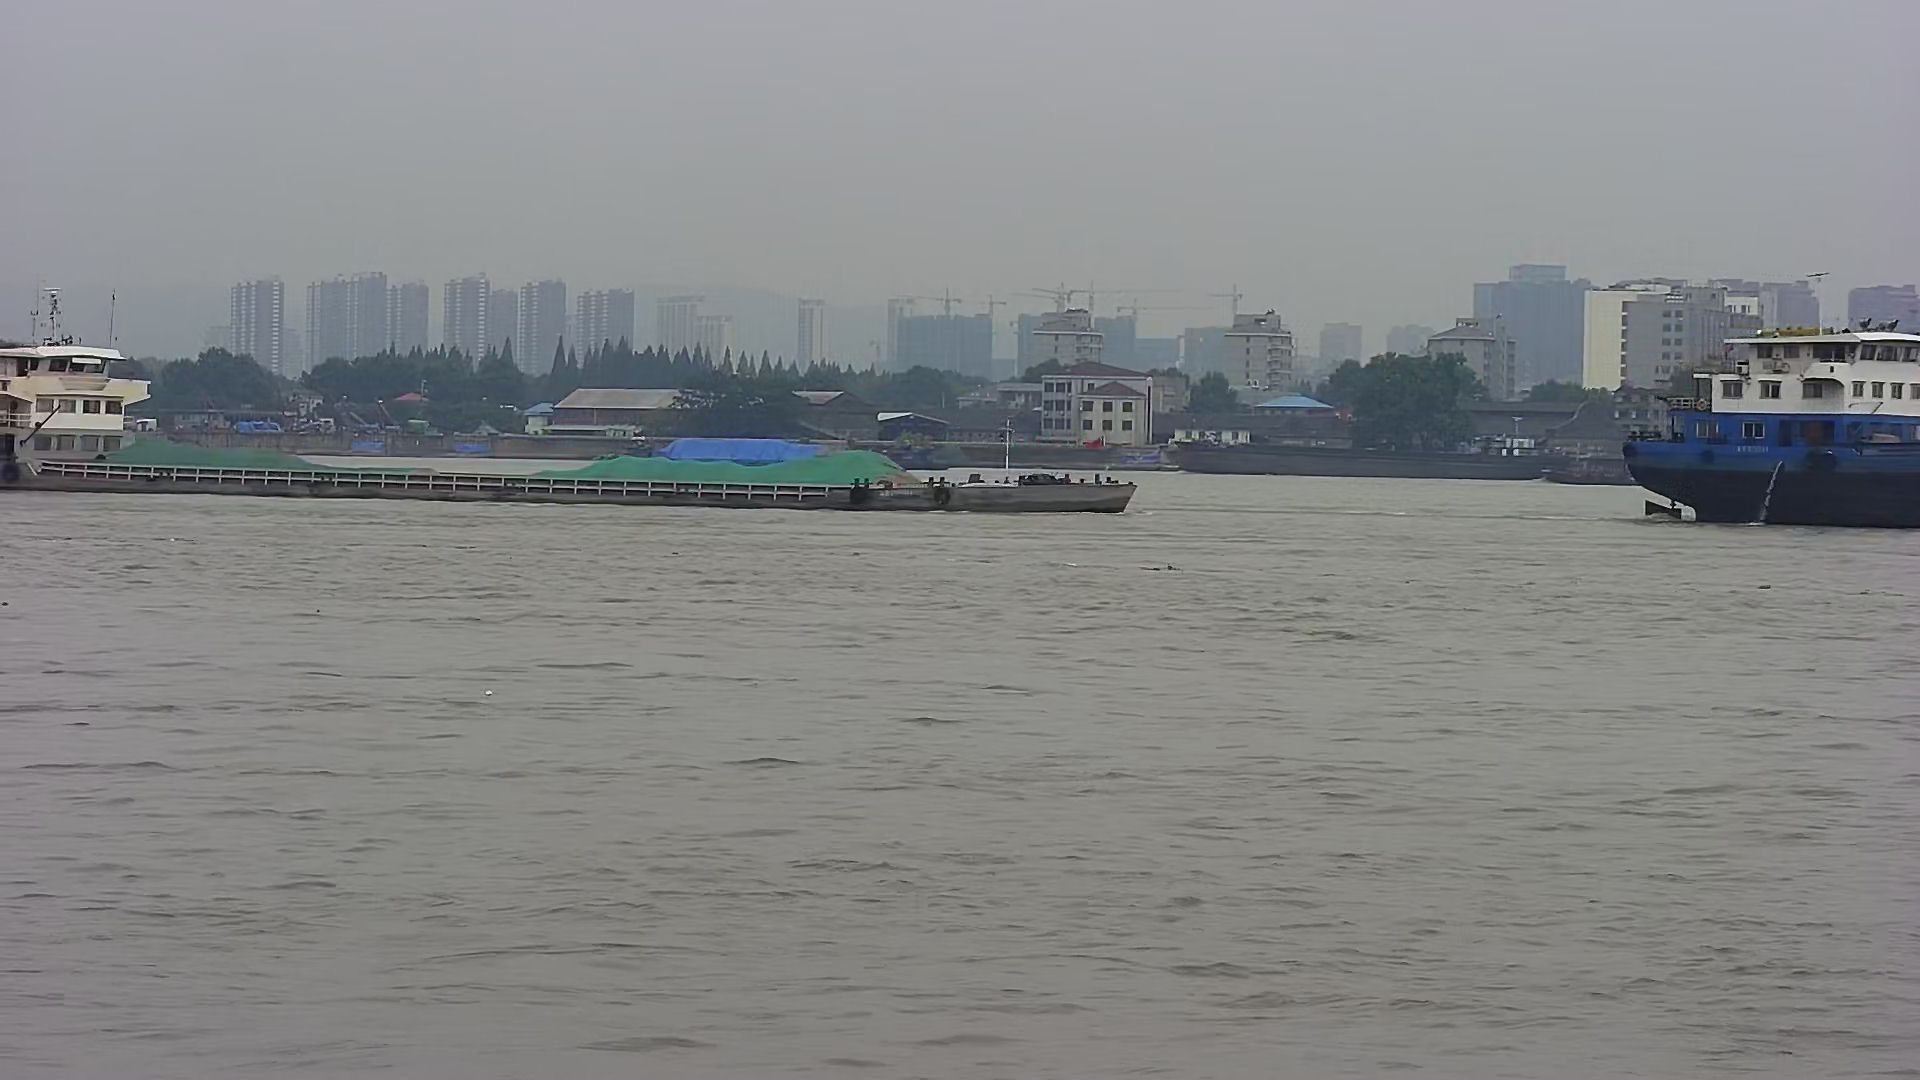ship: (3, 339, 1139, 524), (1625, 320, 1915, 521)
